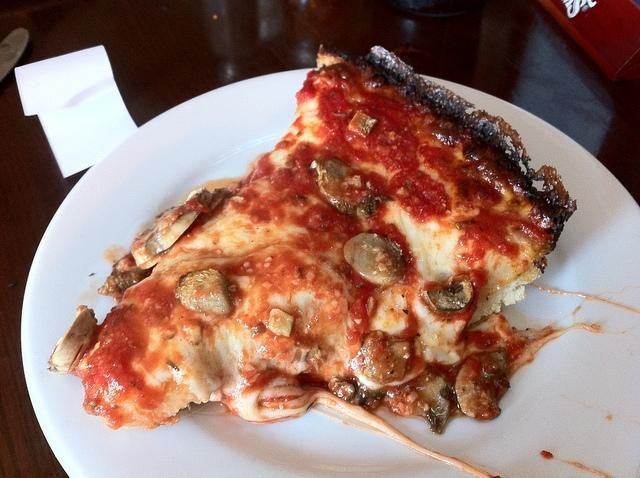mushroom: (309, 158, 394, 219), (144, 189, 212, 256), (454, 350, 510, 420), (344, 232, 407, 290), (46, 304, 98, 374), (173, 268, 234, 315), (414, 371, 458, 434), (362, 331, 410, 384), (328, 376, 386, 410), (423, 275, 472, 314), (114, 270, 151, 294), (348, 112, 378, 138), (268, 308, 294, 337)
